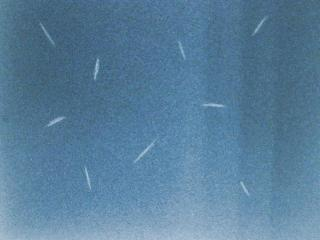scratch: (131, 130, 164, 165), (38, 19, 61, 56), (249, 10, 270, 44), (40, 112, 70, 129), (88, 55, 105, 85), (195, 98, 230, 112), (173, 36, 190, 64), (81, 160, 94, 191), (235, 177, 252, 200)
